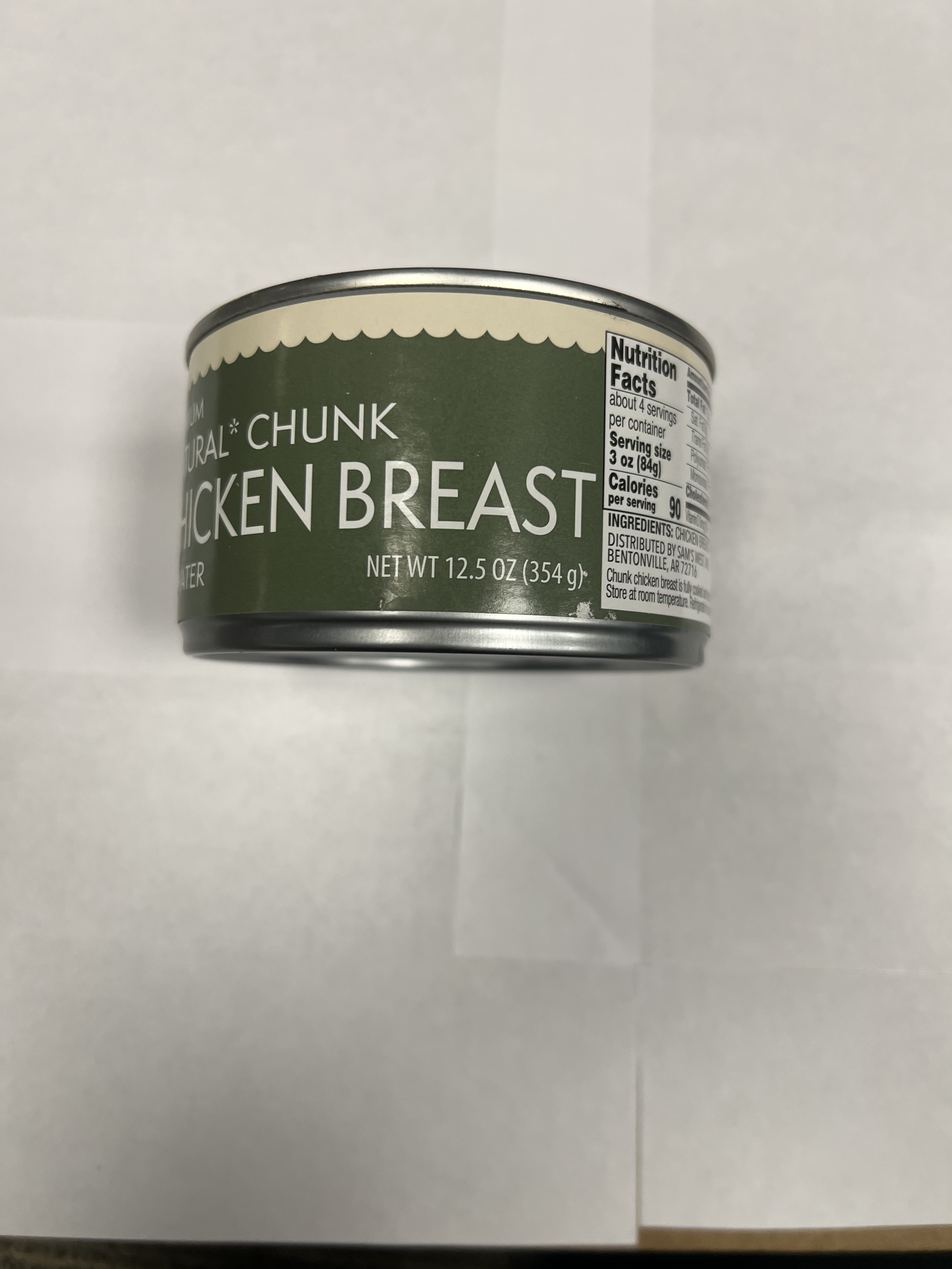packaged: (173, 262, 723, 678)
